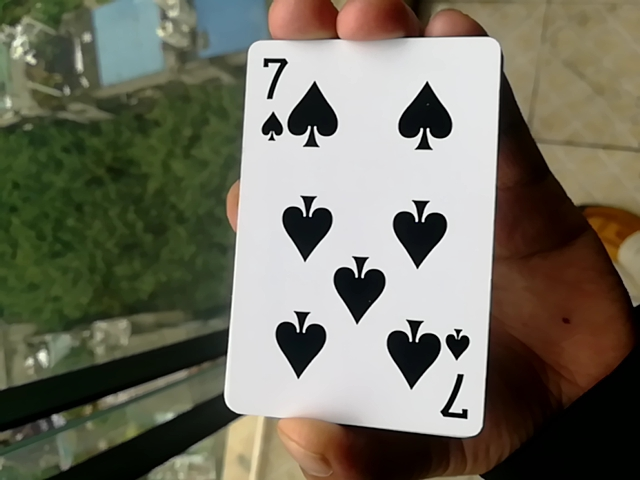ht 7: (230, 21, 488, 445)
